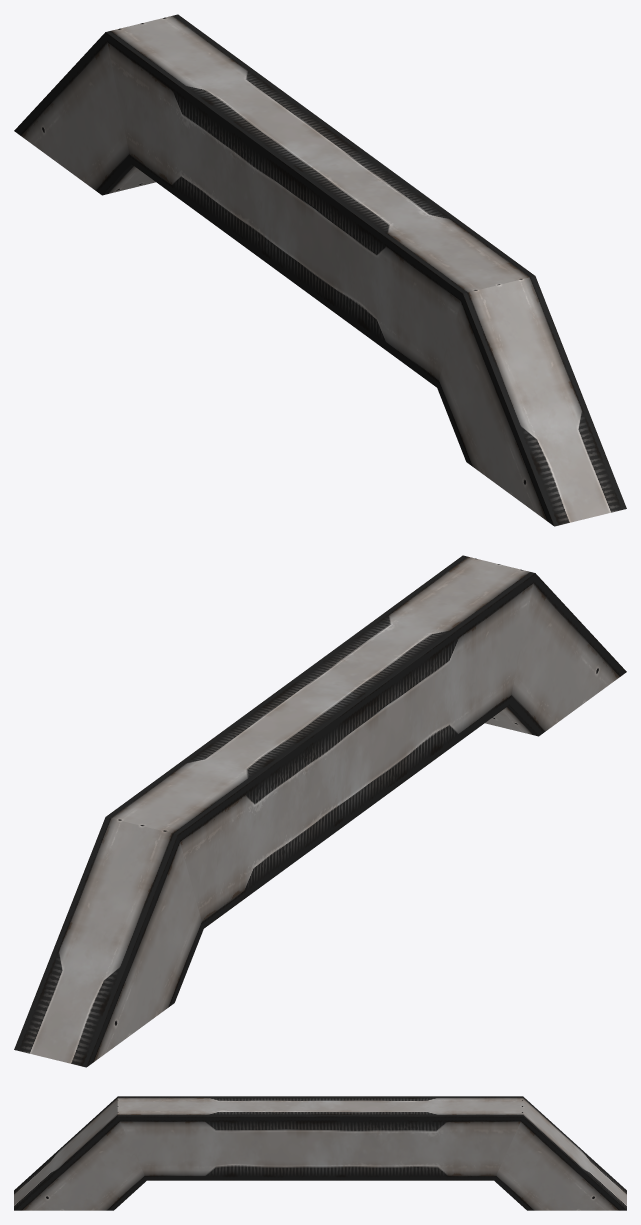
The model's file is Beam_D_04.fbx.
3 renders of one model, top to bottom at view 1: azimuth 30°, elevation 25°; view 2: azimuth 150°, elevation 25°; view 3: azimuth 270°, elevation 25°, orthographic. The views are drawn at different scales.
Visible parts, largest first — view 1: Beam_D_04; view 2: Beam_D_04; view 3: Beam_D_04.
Part boxes in pixels (x1,y1,x2,y2): Beam_D_04: (14,14,626,526); Beam_D_04: (14,555,626,1067); Beam_D_04: (14,1096,626,1210).
Bounding box in the file's own units: 21.16 × 46.21 × 273.
1 material, 1 textured.
